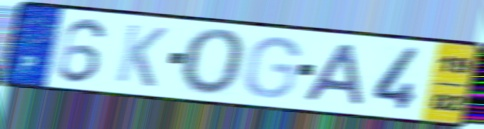4: (368, 43, 424, 114)
6: (55, 16, 108, 85)
A: (301, 42, 367, 107)
G: (241, 35, 303, 101)
K: (112, 21, 170, 90)
O: (179, 27, 250, 99)
